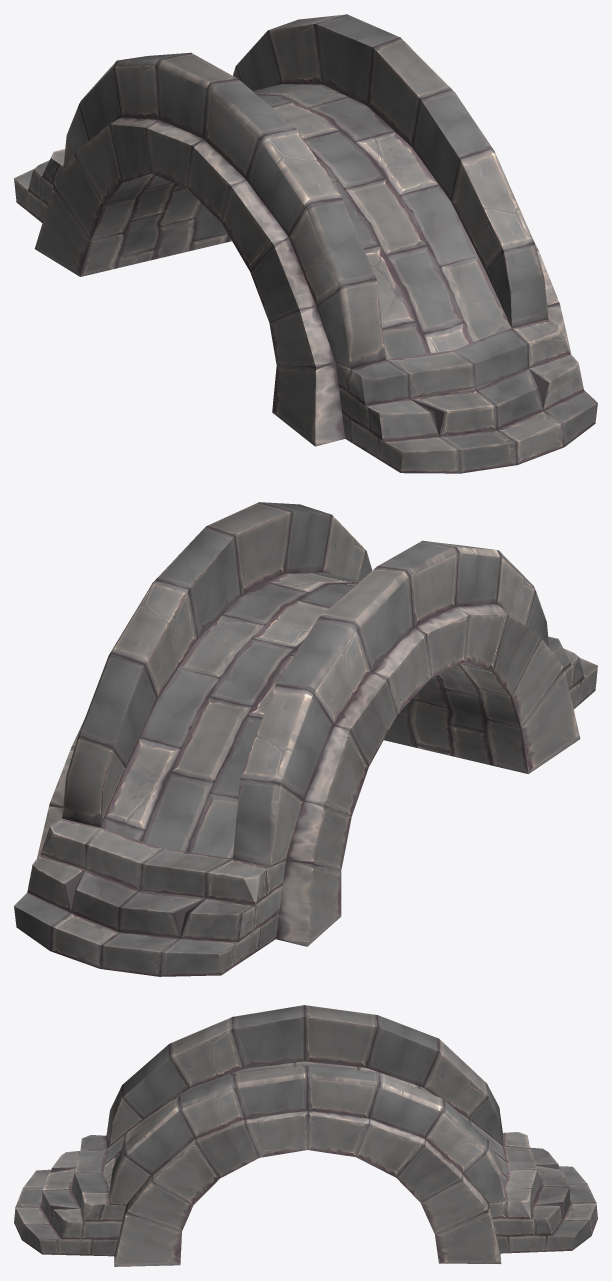
The model's file is SM_PROP_bridge_stone_01.fbx.
The picture shows the model from 3 angles, top to bottom: view 1: azimuth 30°, elevation 25°; view 2: azimuth 150°, elevation 25°; view 3: azimuth 270°, elevation 25°; orthographic projection. The views are drawn at different scales.
Parts seen in each view (by area): view 1: SM_PROP_bridge_stone_01; view 2: SM_PROP_bridge_stone_01; view 3: SM_PROP_bridge_stone_01.
Part boxes in pixels (x1=…): SM_PROP_bridge_stone_01: x1=14, y1=14, x2=597, y2=473; SM_PROP_bridge_stone_01: x1=14, y1=502, x2=597, y2=976; SM_PROP_bridge_stone_01: x1=14, y1=1005, x2=597, y2=1266.
Bounding box in the file's own units: 357 × 322 × 933.
